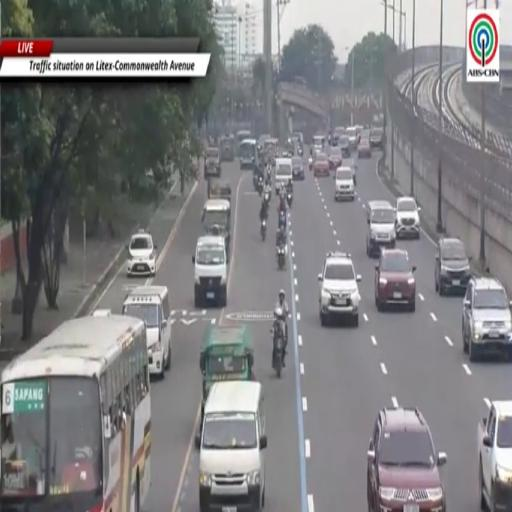bus: (0, 315, 151, 511), (236, 131, 251, 156)
car: (367, 407, 447, 511), (462, 277, 511, 361), (318, 252, 361, 326), (375, 249, 416, 311), (435, 237, 471, 295), (367, 201, 395, 257), (126, 230, 157, 276), (396, 197, 420, 238), (334, 167, 354, 201), (313, 153, 329, 177), (343, 158, 357, 185), (357, 137, 372, 158), (292, 156, 305, 180), (329, 147, 342, 170), (346, 126, 358, 150), (370, 127, 383, 149), (339, 135, 351, 157), (312, 136, 325, 154)
jeepney: (200, 326, 254, 425), (204, 147, 221, 179), (209, 179, 232, 202), (220, 136, 235, 162), (264, 138, 278, 165)
motorcycle: (273, 333, 284, 378), (276, 246, 285, 270), (278, 212, 286, 229), (261, 219, 266, 241), (257, 178, 263, 196), (264, 190, 270, 205), (287, 192, 292, 207), (309, 156, 312, 170)
truck: (478, 400, 511, 511)
